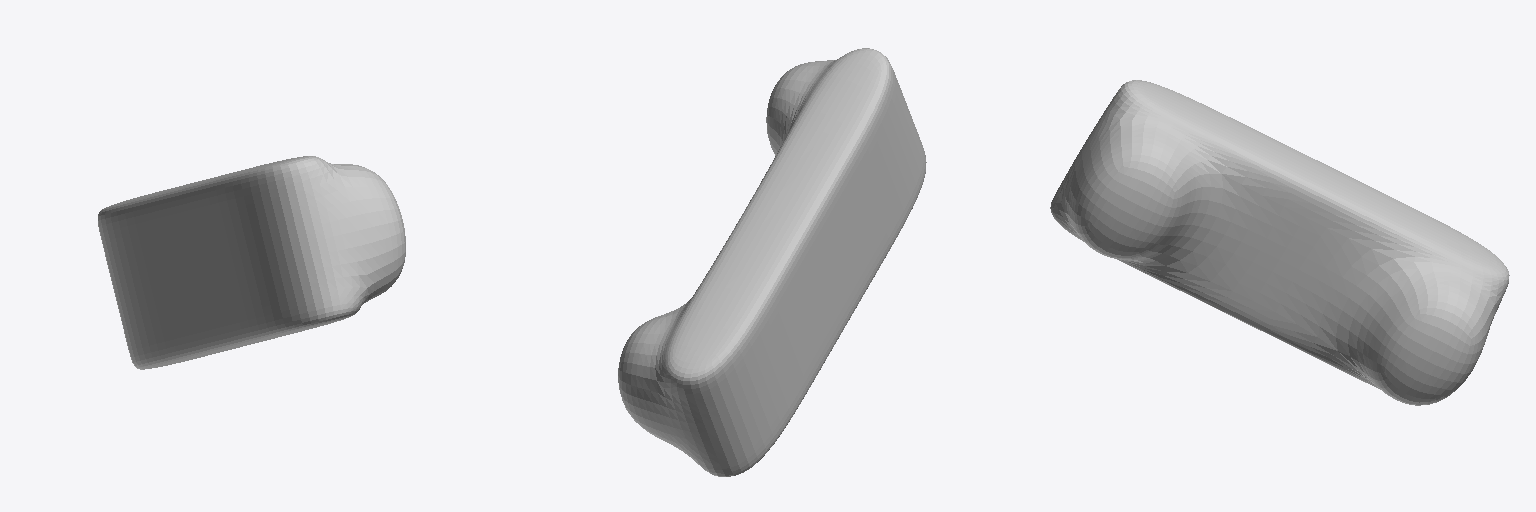
File: phone2.obj
The picture shows the model from 3 angles: view 1: azimuth 30°, elevation 25°; view 2: azimuth 150°, elevation 25°; view 3: azimuth 270°, elevation 25°; orthographic projection.
Visible parts, largest first — view 1: Phone_Cube.005; view 2: Phone_Cube.005; view 3: Phone_Cube.005.
Boxes of the visible parts, x1,y1,x2,y2 form: Phone_Cube.005: [98, 156, 405, 369]; Phone_Cube.005: [618, 48, 926, 476]; Phone_Cube.005: [1050, 80, 1509, 405].
Bounding box in the file's own units: 0.1883 × 0.4402 × 0.5804.